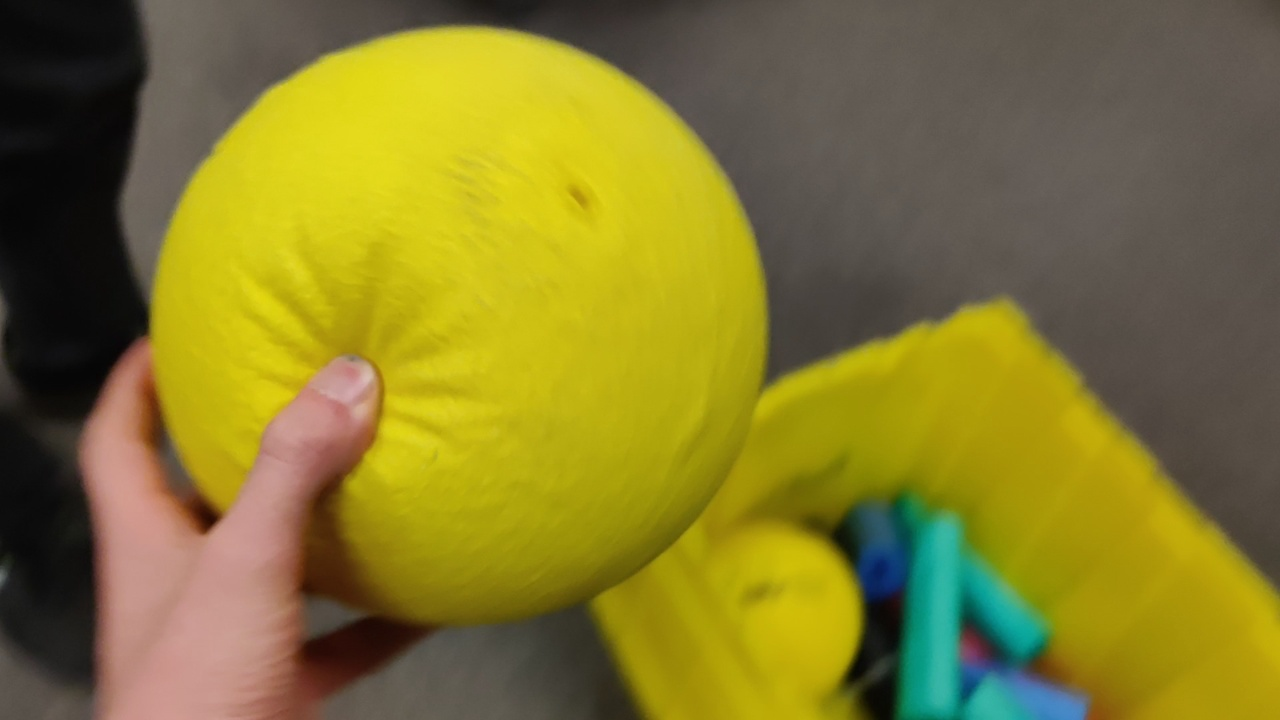Ball: (155, 25, 769, 612)
